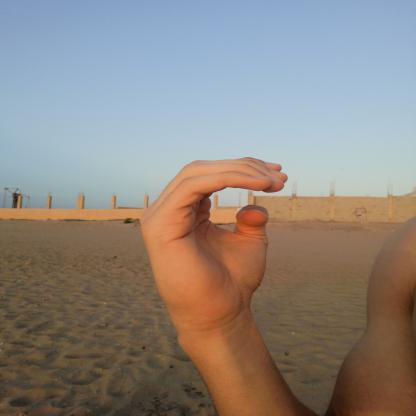JEEM: (125, 141, 303, 336)
